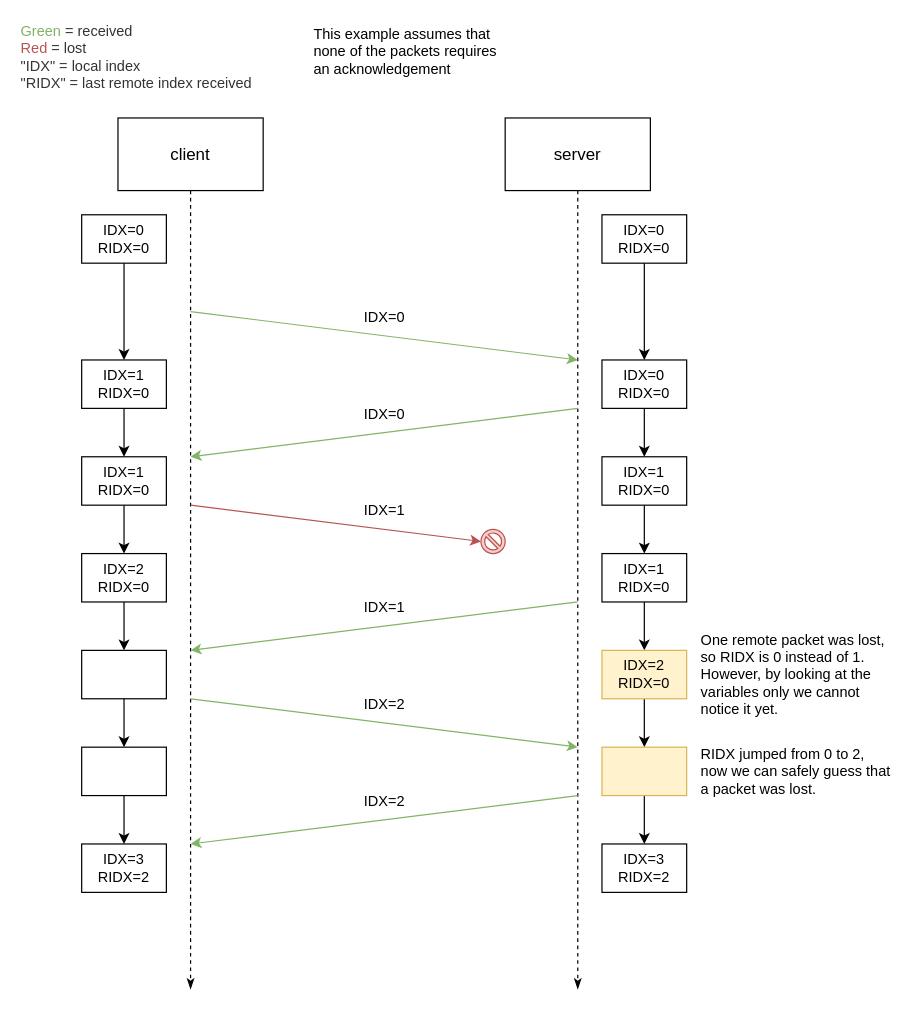
Image size: 912x1020. Some labels were removed from this diagram. Here are the shapes that lost their labels. From the top down, the box of each, then its label:
(80, 649, 166, 699): IDX=2 RIDX=1
(80, 746, 166, 796): IDX=3 RIDX=1
(601, 746, 687, 796): IDX=2 RIDX=2
